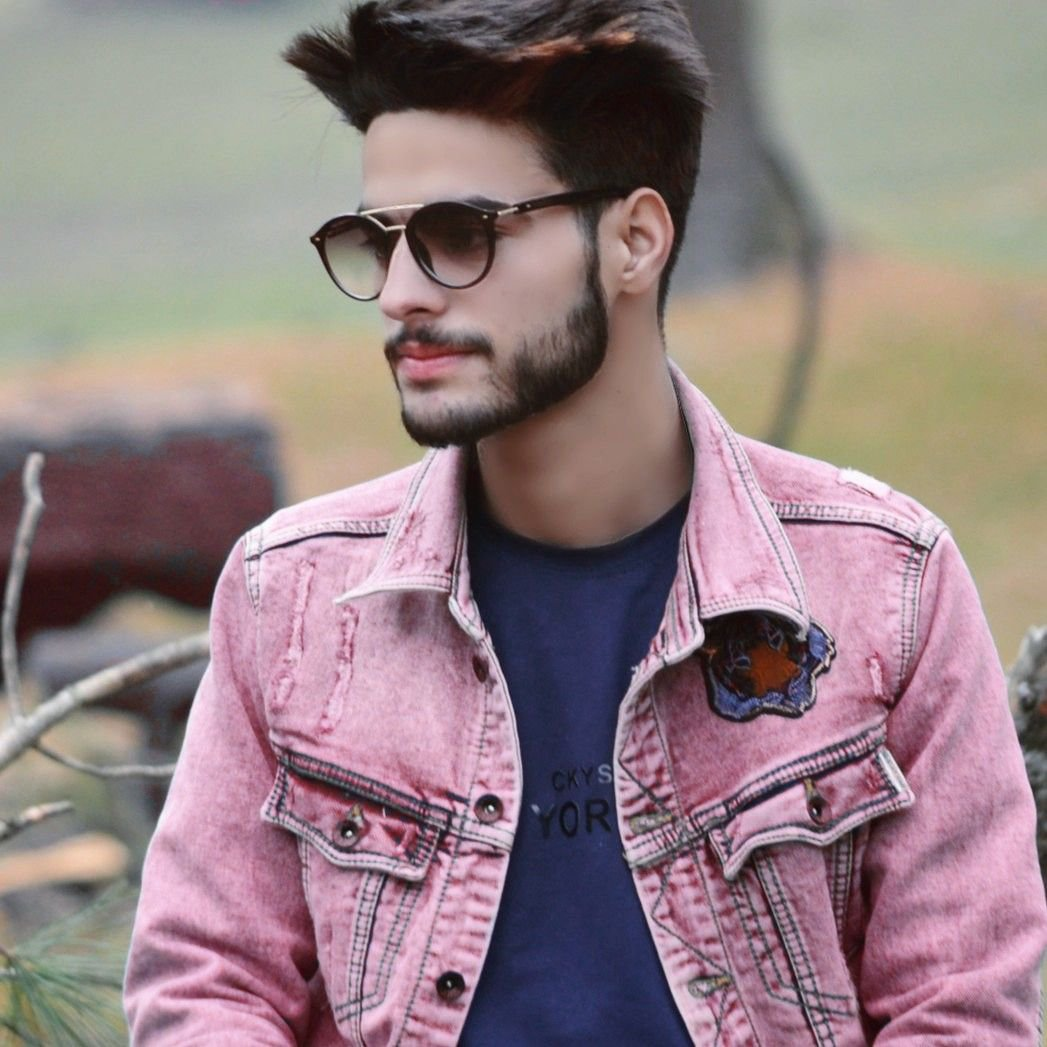noMask: (277, 16, 699, 475)
